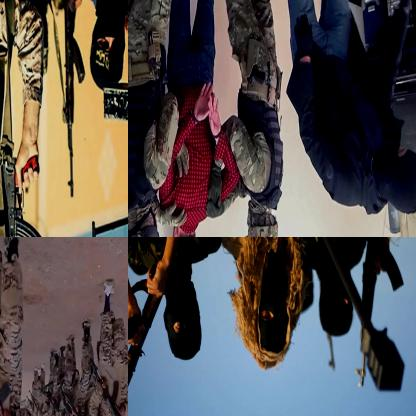rifle: (89, 0, 127, 236), (355, 237, 407, 396), (52, 0, 86, 202), (128, 263, 163, 415), (0, 147, 59, 236), (0, 296, 24, 415), (86, 353, 127, 415), (0, 37, 4, 153)
